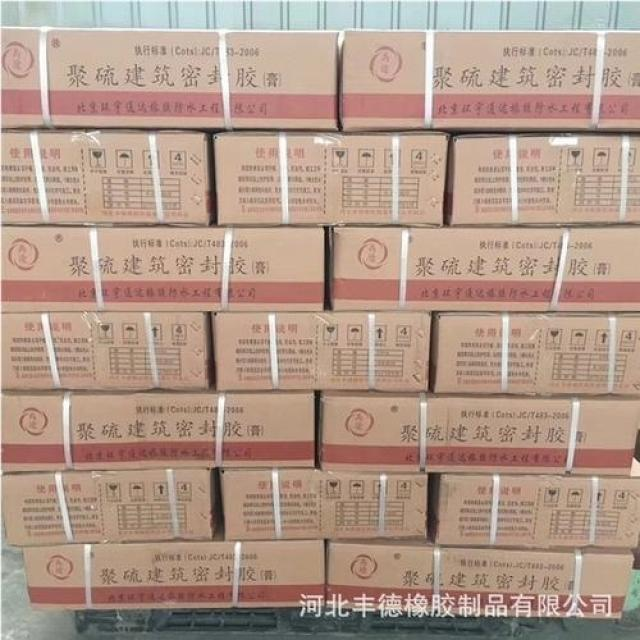box: (0, 26, 339, 131), (338, 29, 639, 135), (0, 223, 325, 313), (317, 391, 639, 476), (328, 224, 638, 312), (0, 388, 315, 474), (325, 537, 634, 620), (24, 526, 325, 611), (212, 129, 450, 227), (0, 128, 215, 227), (427, 458, 639, 549), (428, 311, 639, 398), (445, 133, 639, 225), (211, 311, 431, 392), (1, 468, 218, 545), (1, 313, 210, 391), (220, 468, 428, 542)
